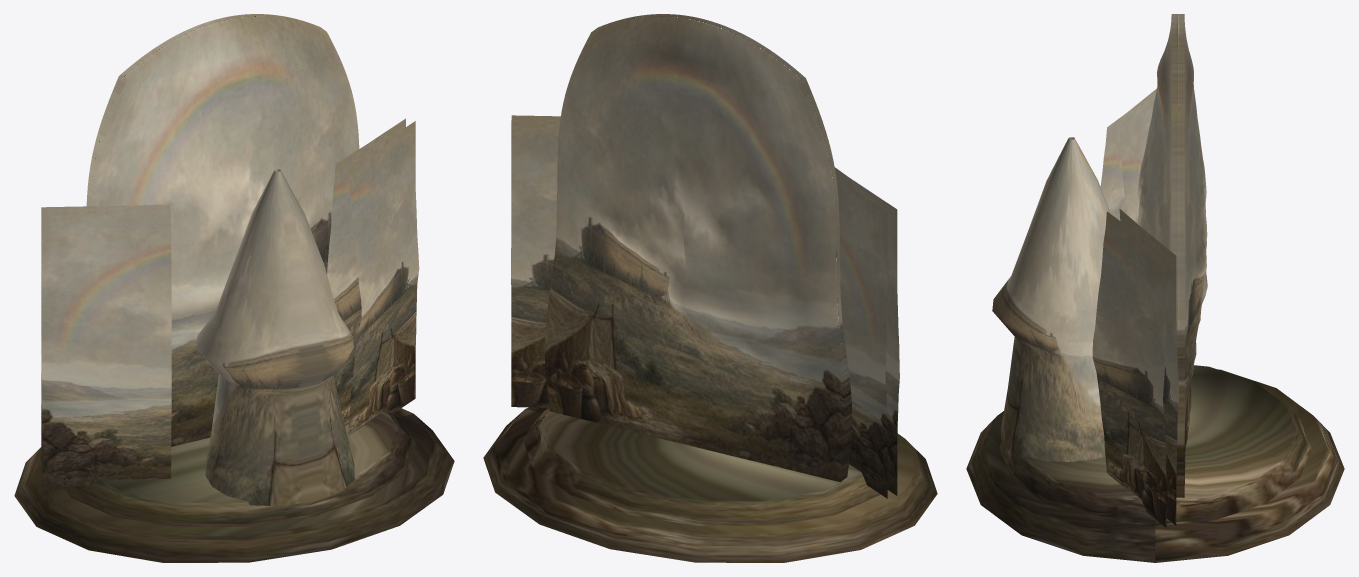
Rendered from noah-stone-altar.glb.
3 views of the same model, side by side, from view 1: azimuth 30°, elevation 25°; view 2: azimuth 150°, elevation 25°; view 3: azimuth 270°, elevation 25° (orthographic). The views are drawn at different scales.
Parts seen in each view (by area): view 1: PaintingSculptureMonument; view 2: PaintingSculptureMonument; view 3: PaintingSculptureMonument.
Boxes of the visible parts, x1=… form: PaintingSculptureMonument: x1=14, y1=14, x2=454, y2=562; PaintingSculptureMonument: x1=483, y1=14, x2=937, y2=562; PaintingSculptureMonument: x1=966, y1=14, x2=1344, y2=562.
Size of the model in its own units: 2.76 by 2.99 by 2.35.
Materials: 1 (1 with a texture image).
